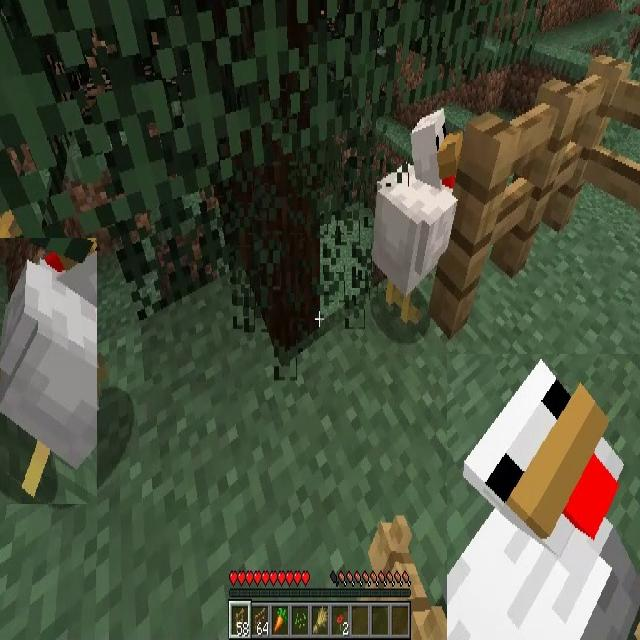duck: (447, 354, 640, 640), (0, 238, 97, 504), (371, 105, 463, 330)
